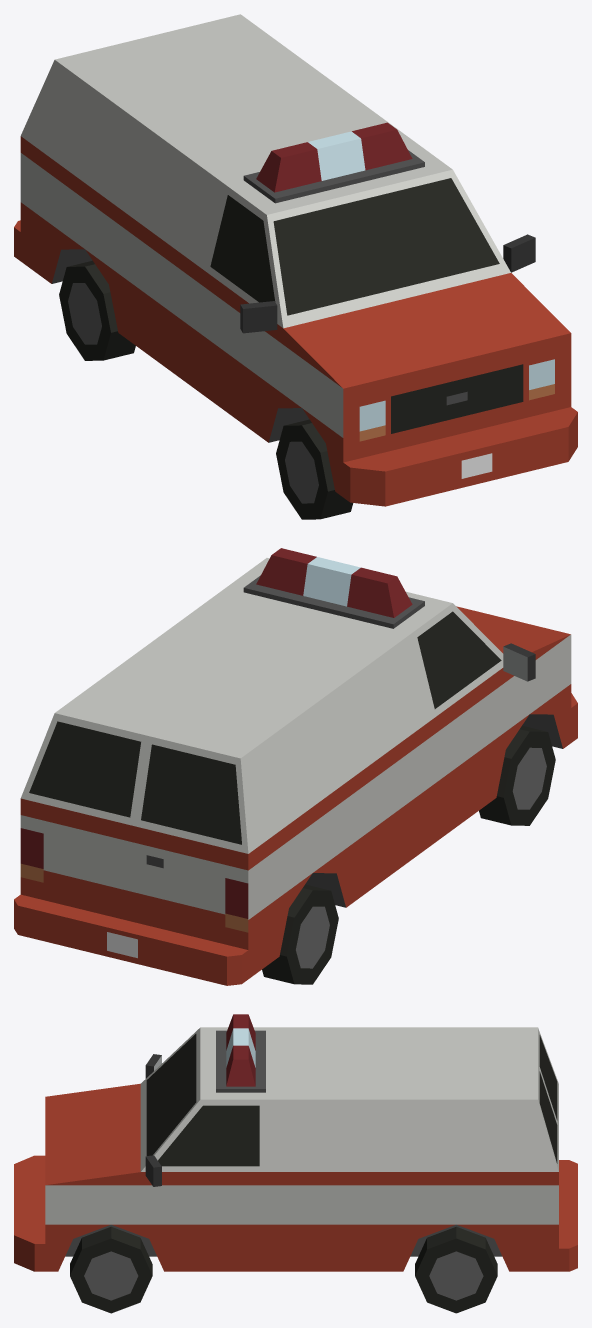
Rendered from Veh_Emergency_Van.obj.
The picture shows the model from 3 angles, top to bottom: view 1: azimuth 30°, elevation 25°; view 2: azimuth 150°, elevation 25°; view 3: azimuth 270°, elevation 25°; orthographic projection. The views are drawn at different scales.
Bounding box in the file's own units: 1.38 × 1.31 × 2.89.
